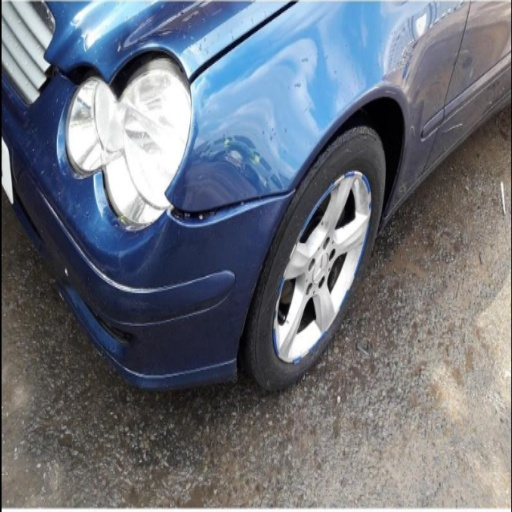dent: (403, 11, 510, 125)
scratch: (383, 4, 467, 142), (444, 124, 462, 134)
